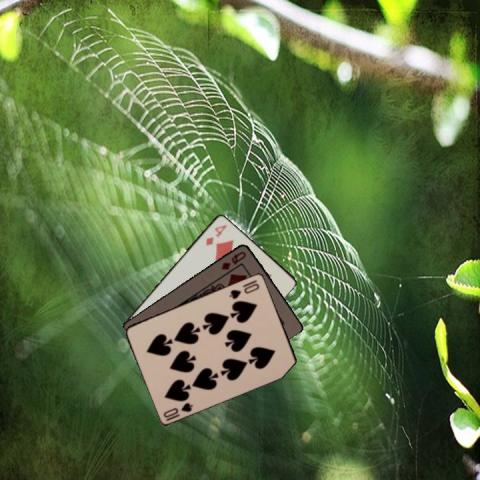10s: (227, 280, 260, 300), (161, 399, 194, 419)
4d: (203, 221, 228, 247)
Qd: (218, 248, 247, 271)
